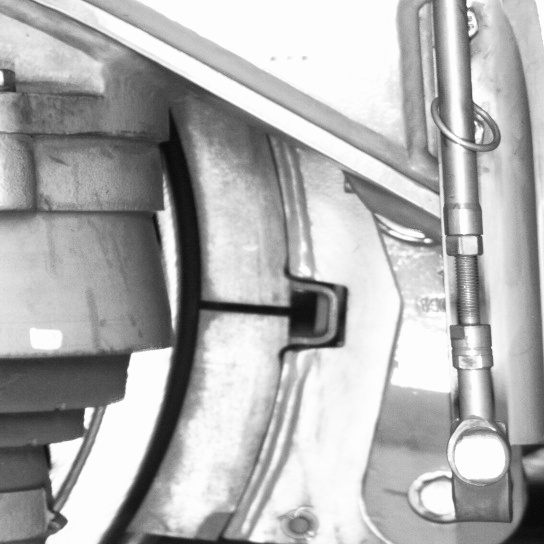KnifeSwitch: (92, 136, 316, 541)
